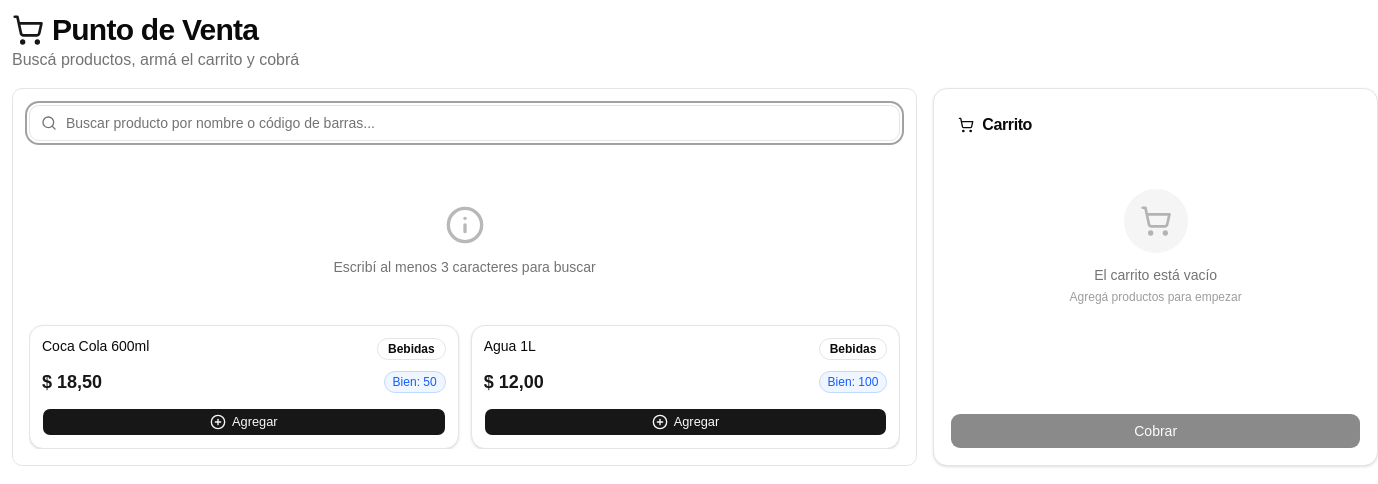
SalesPage integration › shows the item count badge in CartPanel after adding a product
This screenshot has width=1378, height=484.
Click the 1st button "Agregar" at (244, 422), box x1=42 y1=408 x2=446 y2=436
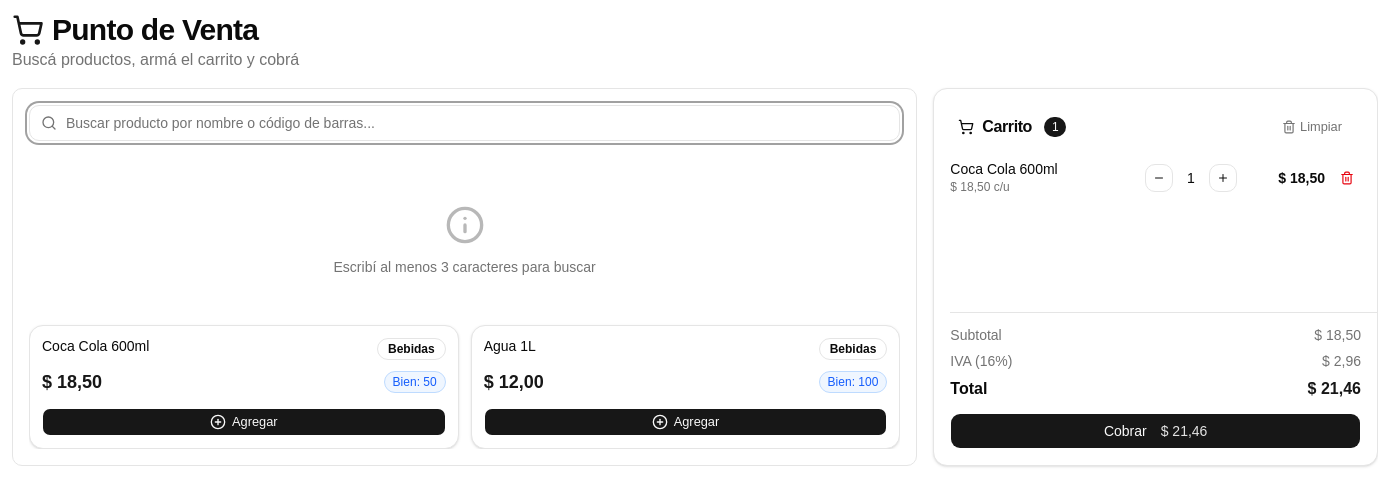
Check: the 1st text "1" is shown, box x1=1044 y1=117 x2=1066 y2=137
